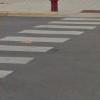Crosswalk: (3, 13, 93, 60)
